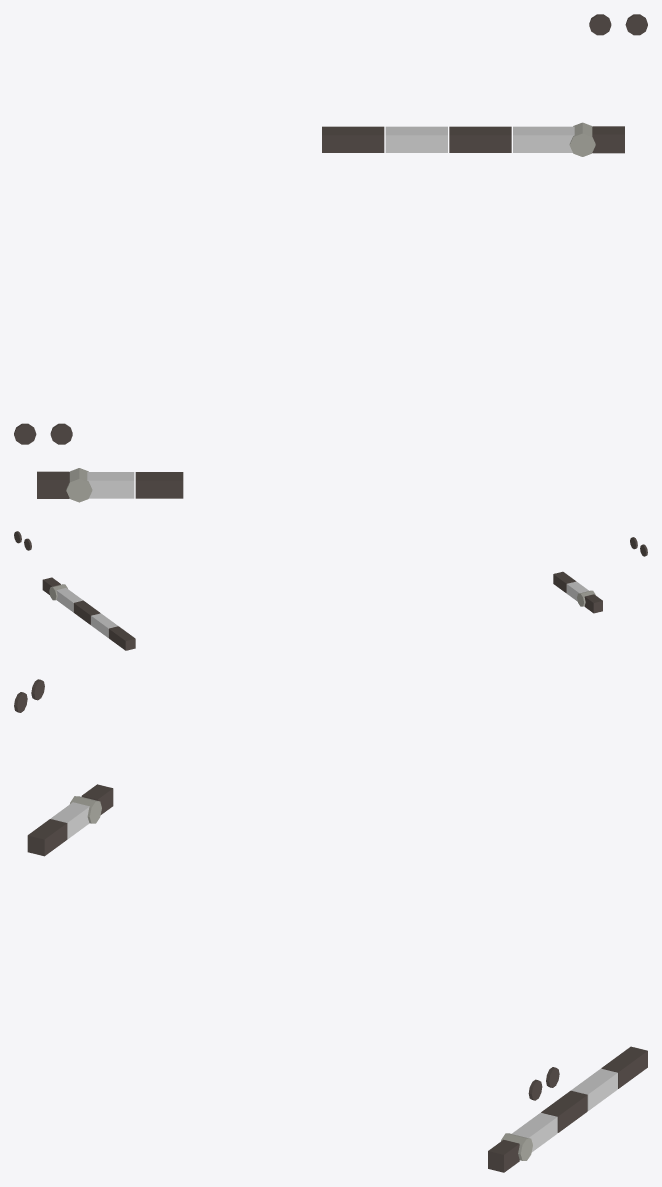
File: SM_PasoNivel_60E_v2_Abandonado_LOD1.fbx
The picture shows the model from 3 angles, top to bottom: view 1: azimuth 30°, elevation 25°; view 2: azimuth 150°, elevation 25°; view 3: azimuth 270°, elevation 25°; orthographic projection. The views are drawn at different scales.
Parts seen in each view (by area): view 1: Barrera_1, Barrera_2, Luces_A, Luces_B; view 2: Barrera_1, Barrera_2; view 3: Barrera_1, Barrera_2.
Boxes of the visible parts, x1,y1,x2,y2 form: Barrera_1: (322,122,624,156); Barrera_2: (37,468,183,502); Luces_A: (14,14,611,444); Luces_B: (50,14,647,444); Barrera_1: (42,577,135,650); Barrera_2: (553,571,602,613); Barrera_1: (488,1046,647,1172); Barrera_2: (27,784,113,856).
Size of what is drawn, in the model's own units: 15.78 by 1.91 by 10.26.
